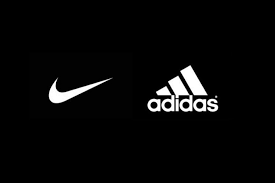adidas: (145, 65, 220, 112)
nike: (49, 78, 112, 104)
